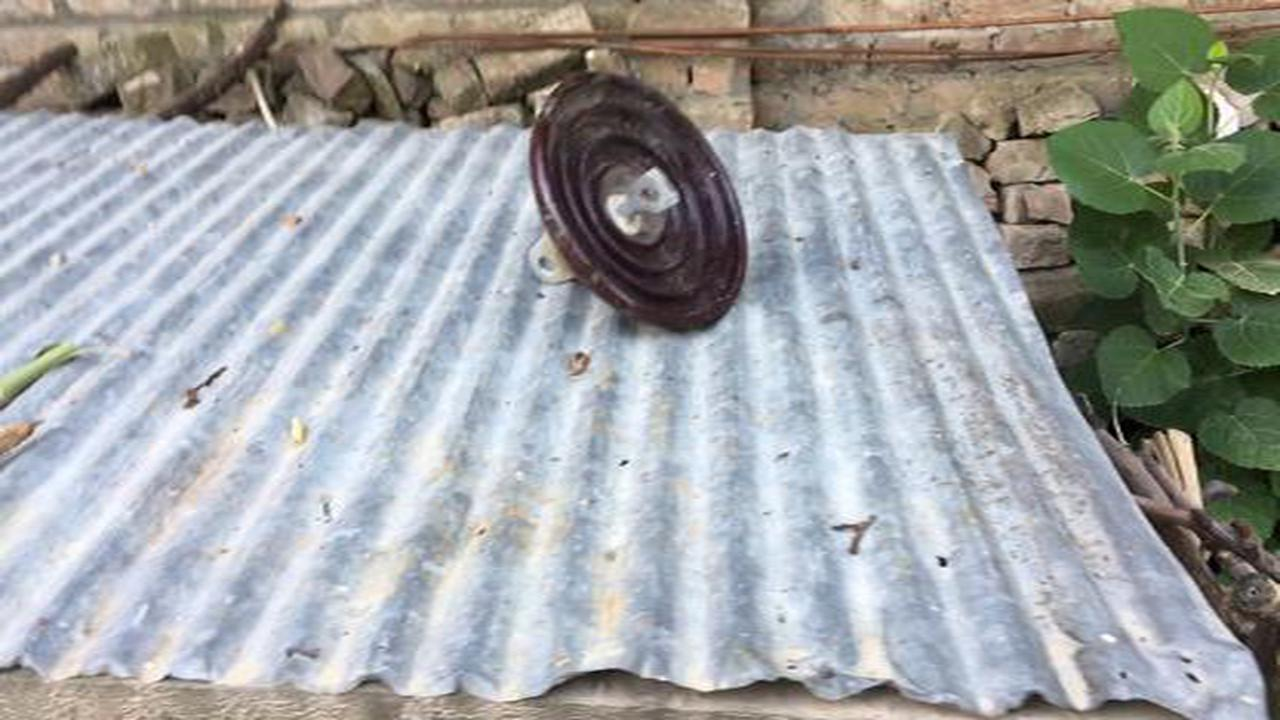insulator_disc: (523, 66, 753, 340)
